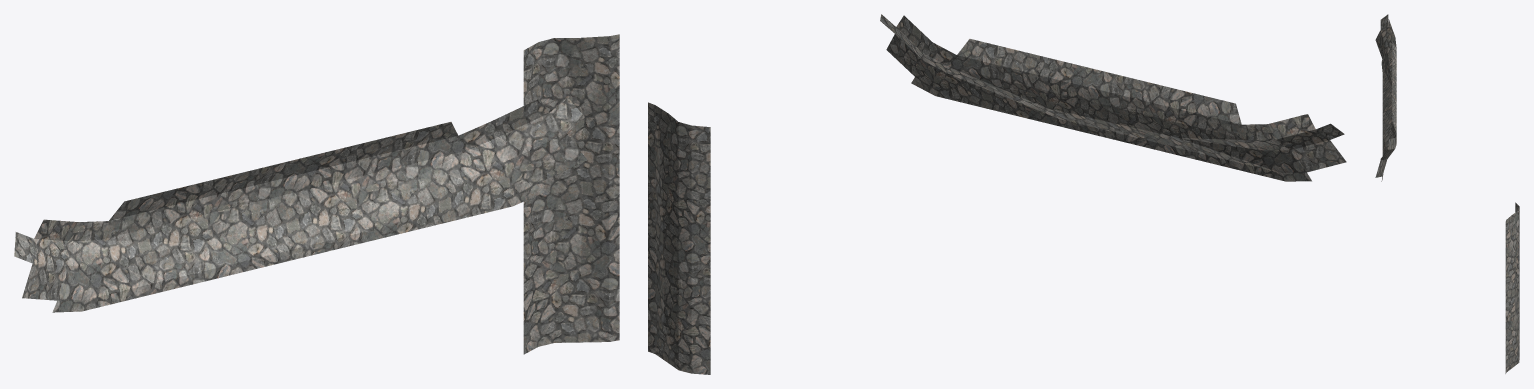
The model's file is Rubble.dae.
The picture shows the model from 3 angles, left to right: view 1: azimuth 30°, elevation 25°; view 2: azimuth 150°, elevation 25°; view 3: azimuth 270°, elevation 25°; orthographic projection. The views are drawn at different scales.
Visible parts, largest first — view 1: Cube.002; view 2: Cube.002; view 3: Cube.002.
Part boxes in pixels (left/top/right/bottom): Cube.002: left=14, top=34, right=619, bottom=354; Cube.002: left=648, top=14, right=1346, bottom=374; Cube.002: left=1375, top=14, right=1519, bottom=373.
Size of the model in its own units: 7.46 by 2.55 by 3.67.
